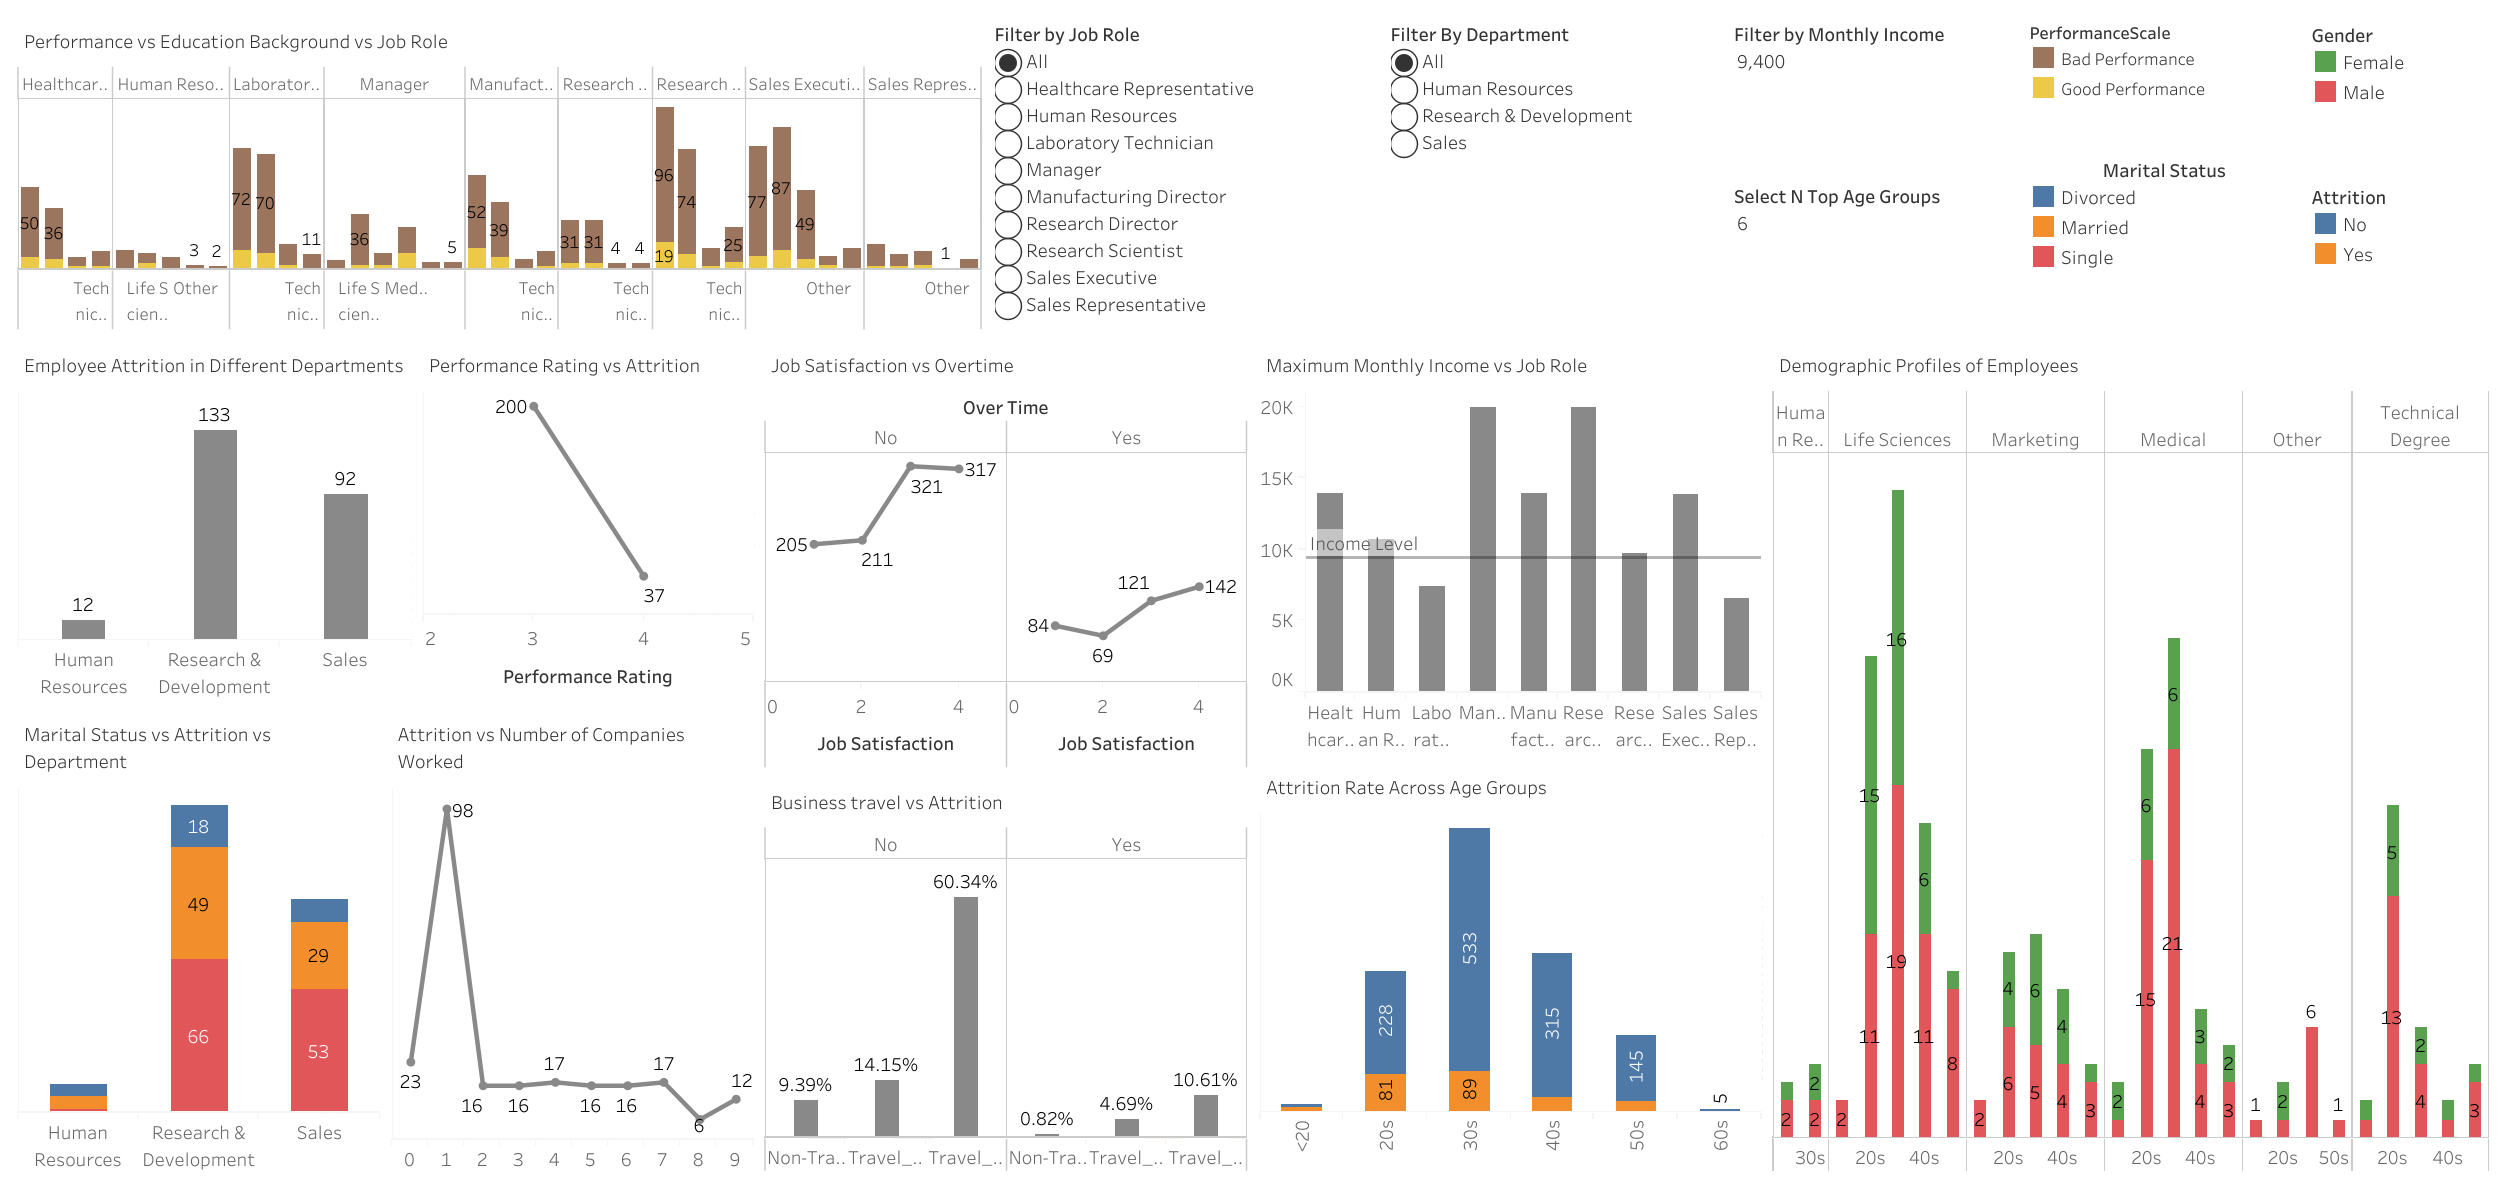

What the dashboard file says about the page in this screenshot:
{"tool":"tableau","page":{"name":"Dashboard 1","canvas":[1000,1000],"units":"permille","ordinal":0},"visuals":[{"type":"worksheet","title":"Performance vs Education Background vs Job Role","mark":"Automatic","rows":["HR-Employee-Attrition.csv_037F4A5F3C7441FC8C0CBF5C038B2DD2"],"cols":["JobRole","EducationField"],"box":[6,13.7,388,270.5]},{"type":"parameter","param":"[Parameters].[Parameter 3]","box":[394,13.7,157.5,270.5]},{"type":"parameter","param":"[Parameters].[Parameter 1]","box":[551.5,13.7,136.6,270.5]},{"type":"parameter","param":"[Parameters].[Parameter 2]","box":[688,13.7,117.2,135.3]},{"type":"legend","title":"Performance vs Education Background vs Job Role","param":"[federated.1fb0q9z0sq8gca1bcsme014swo5n].[none:Calculation_632192819897737216:nk","box":[805.2,13.7,111.9,113]},{"type":"legend","title":"Demographic Profiles of Employees","param":"[federated.1fb0q9z0sq8gca1bcsme014swo5n].[none:Gender:nk]","box":[917.1,13.7,77,135.3]},{"type":"legend","title":"Marital Status vs Attrition vs Department","param":"[federated.1fb0q9z0sq8gca1bcsme014swo5n].[none:MaritalStatus:nk]","box":[805.2,126.7,111.9,157.5]},{"type":"parameter","param":"[Parameters].[Parameter 4]","box":[688,149,117.2,135.3]},{"type":"legend","title":"Attrition Rate Across Age Groups","param":"[federated.1fb0q9z0sq8gca1bcsme014swo5n].[none:Attrition:nk]","box":[917.1,149,77,135.3]},{"type":"worksheet","title":"Employee Attrition in Different Departments","mark":"Automatic","rows":["HR-Employee-Attrition.csv_037F4A5F3C7441FC8C0CBF5C038B2DD2"],"cols":["Department"],"box":[6,284.2,161.1,307.4]},{"type":"worksheet","title":"Performance Rating vs Attrition","mark":"Automatic","rows":["HR-Employee-Attrition.csv_037F4A5F3C7441FC8C0CBF5C038B2DD2"],"cols":["PerformanceRating"],"box":[167.1,284.2,135.9,307.4]},{"type":"worksheet","title":"Job Satisfaction vs Overtime","mark":"Automatic","rows":["HR-Employee-Attrition.csv_037F4A5F3C7441FC8C0CBF5C038B2DD2"],"cols":["OverTime","JobSatisfaction"],"box":[302.9,284.2,197.1,364.7]},{"type":"worksheet","title":"Maximum Monthly Income vs Job Role","mark":"Automatic","rows":["MonthlyIncome"],"cols":["JobRole"],"box":[500,284.2,203.7,351]},{"type":"worksheet","title":"Demographic Profiles of Employees","mark":"Automatic","rows":["HR-Employee-Attrition.csv_037F4A5F3C7441FC8C0CBF5C038B2DD2"],"cols":["EducationField","Calculation_546342951963901952"],"box":[703.6,284.2,290.4,702.1]},{"type":"worksheet","title":"Marital Status vs Attrition vs Department","mark":"Automatic","rows":["HR-Employee-Attrition.csv_037F4A5F3C7441FC8C0CBF5C038B2DD2"],"cols":["Department"],"box":[6,591.6,148.4,394.7]},{"type":"worksheet","title":"Attrition vs Number of Companies Worked","mark":"Line","rows":["HR-Employee-Attrition.csv_037F4A5F3C7441FC8C0CBF5C038B2DD2"],"box":[154.4,591.6,148.5,394.7]},{"type":"worksheet","title":"Attrition Rate Across Age Groups","mark":"Automatic","rows":["HR-Employee-Attrition.csv_037F4A5F3C7441FC8C0CBF5C038B2DD2"],"cols":["Calculation_546342951963901952"],"box":[500,635.3,203.7,351]},{"type":"worksheet","title":"Business travel vs Attrition","mark":"Automatic","cols":["Attrition","BusinessTravel"],"box":[302.9,649,197.1,337.3]}]}

Visuals, with their boxes on the dashboard's canvas, which has no fixed pixel size, in thousandths of its width and height (x1, y1, x2, y2). These are canvas units, not pixel positions in the 2508x1188 screenshot, which may show the page scaled, cropped or inside an application window:
"Performance vs Education Background vs Job Role" worksheet: (6, 14, 394, 284)
parameter: (394, 14, 552, 284)
parameter: (552, 14, 688, 284)
parameter: (688, 14, 805, 149)
"Performance vs Education Background vs Job Role" legend: (805, 14, 917, 127)
"Demographic Profiles of Employees" legend: (917, 14, 994, 149)
"Marital Status vs Attrition vs Department" legend: (805, 127, 917, 284)
parameter: (688, 149, 805, 284)
"Attrition Rate Across Age Groups" legend: (917, 149, 994, 284)
"Employee Attrition in Different Departments" worksheet: (6, 284, 167, 592)
"Performance Rating vs Attrition" worksheet: (167, 284, 303, 592)
"Job Satisfaction vs Overtime" worksheet: (303, 284, 500, 649)
"Maximum Monthly Income vs Job Role" worksheet: (500, 284, 704, 635)
"Demographic Profiles of Employees" worksheet: (704, 284, 994, 986)
"Marital Status vs Attrition vs Department" worksheet: (6, 592, 154, 986)
"Attrition vs Number of Companies Worked" worksheet (Line marks): (154, 592, 303, 986)
"Attrition Rate Across Age Groups" worksheet: (500, 635, 704, 986)
"Business travel vs Attrition" worksheet: (303, 649, 500, 986)
